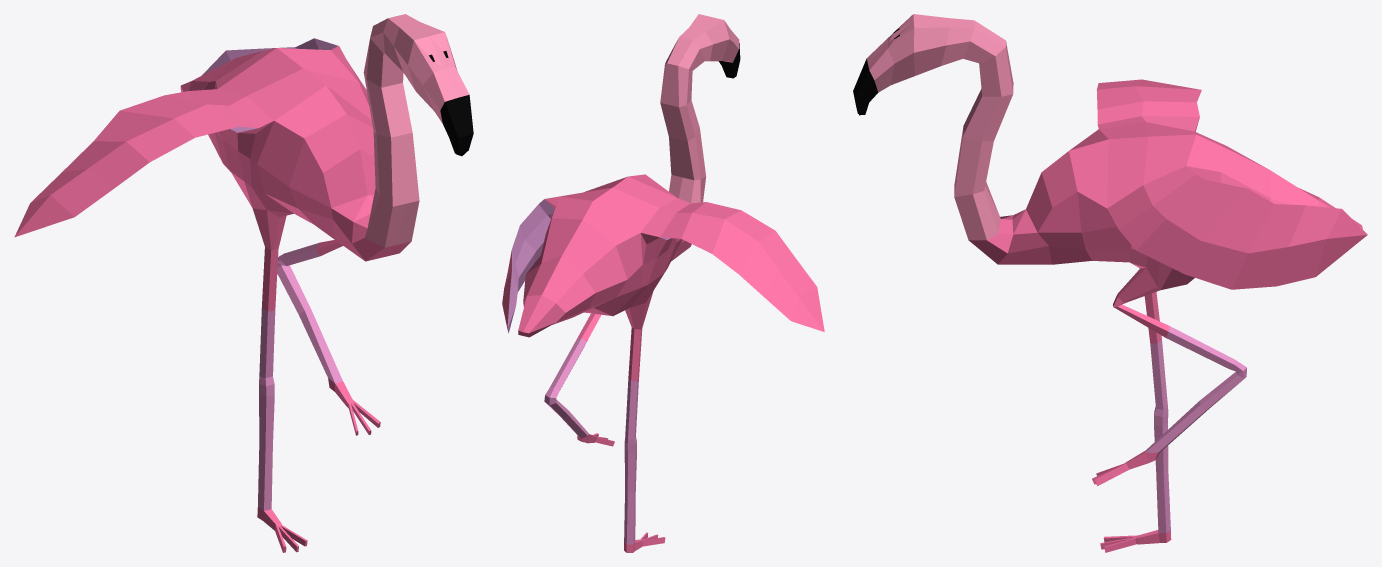
File: Flamingo.gltf
The picture shows the model from 3 angles, left to right: view 1: azimuth 30°, elevation 25°; view 2: azimuth 150°, elevation 25°; view 3: azimuth 270°, elevation 25°; orthographic projection. The views are drawn at different scales.
Visible parts, largest first — view 1: Cylinder; view 2: Cylinder; view 3: Cylinder.
Boxes of the visible parts, x1,y1,x2,y2 form: Cylinder: (14,14,473,552); Cylinder: (502,14,824,552); Cylinder: (853,14,1367,552).
Size of the model in its own units: 2.37 by 3.66 by 3.15.
